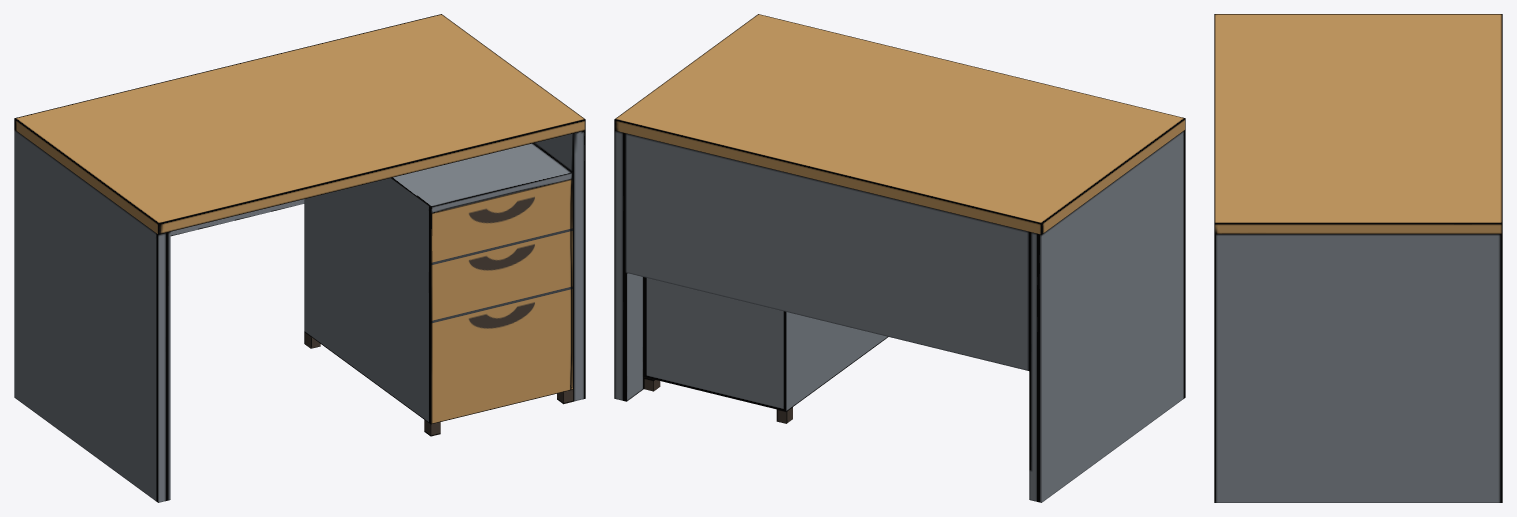
Rendered from shortdesk.FBX.
3 views of the same model, side by side, from view 1: azimuth 30°, elevation 25°; view 2: azimuth 150°, elevation 25°; view 3: azimuth 270°, elevation 25° (orthographic).
Visible parts, largest first — view 1: Box001; view 2: Box001; view 3: Box001.
Part boxes in pixels (box(x1,y1,x2,y2)): Box001: box(14, 14, 585, 502); Box001: box(614, 14, 1185, 502); Box001: box(1214, 14, 1502, 502).
Size of the model in its own units: 47.24 by 29.54 by 27.56.
